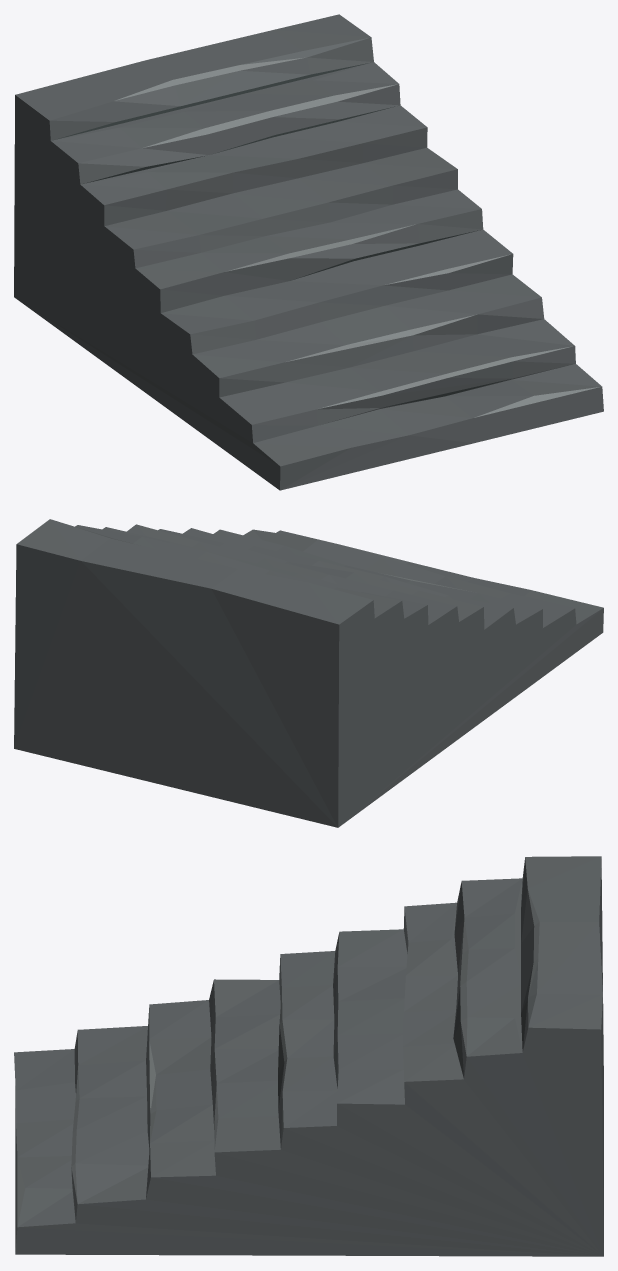
File: MCastle_Steps_02.FBX
3 renders of one model, top to bottom at view 1: azimuth 30°, elevation 25°; view 2: azimuth 150°, elevation 25°; view 3: azimuth 270°, elevation 25°, orthographic. The views are drawn at different scales.
Parts seen in each view (by area): view 1: MCastle_Steps_02_LOD0; view 2: MCastle_Steps_02_LOD0; view 3: MCastle_Steps_02_LOD0.
Boxes of the visible parts, x1=… form: MCastle_Steps_02_LOD0: x1=14, y1=14, x2=603, y2=490; MCastle_Steps_02_LOD0: x1=14, y1=519, x2=603, y2=827; MCastle_Steps_02_LOD0: x1=14, y1=856, x2=603, y2=1256.
Size of what is drawn, in the model's own units: 2.52 by 1.53 by 3.58.
